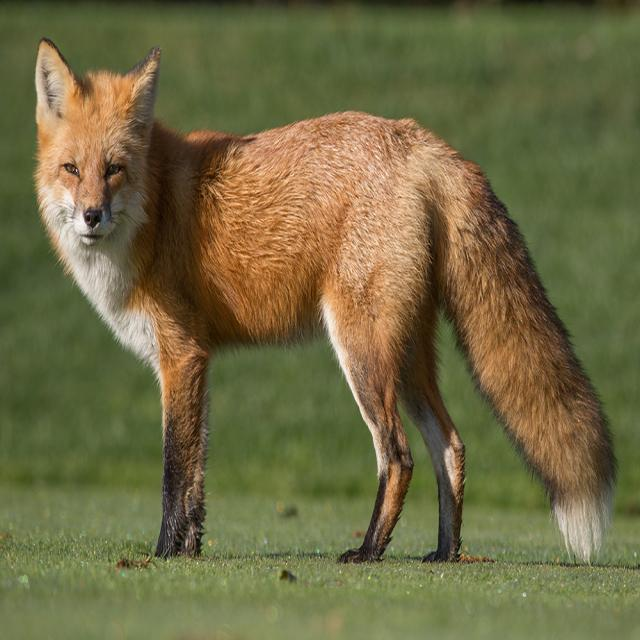Fox: (33, 32, 615, 560)
